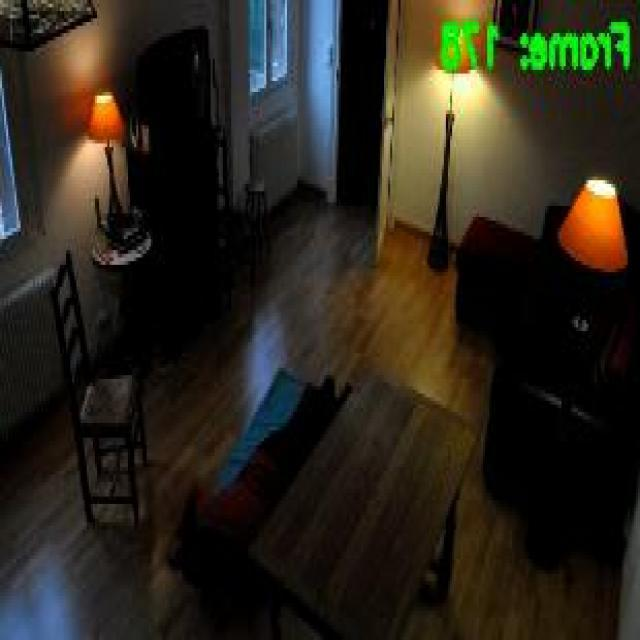fall: (166, 373, 358, 627)
